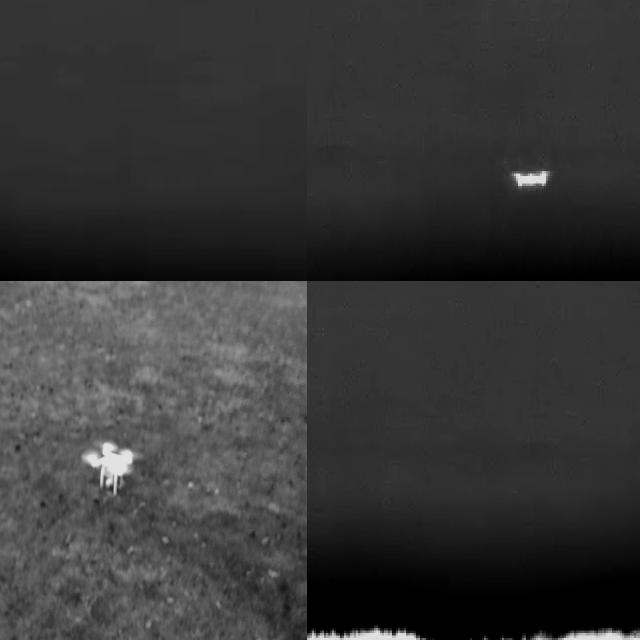1: (502, 164, 562, 198)
drone: (89, 438, 138, 493)
